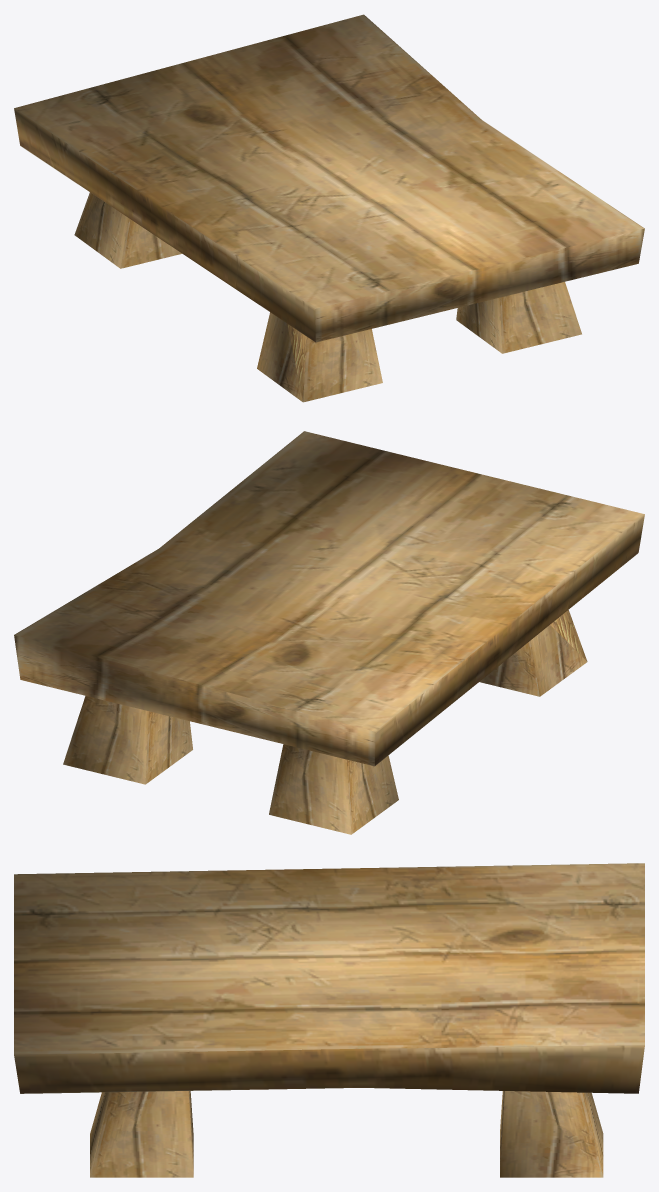
Rendered from inntable.glb.
3 renders of one model, top to bottom at view 1: azimuth 30°, elevation 25°; view 2: azimuth 150°, elevation 25°; view 3: azimuth 270°, elevation 25°, orthographic. The views are drawn at different scales.
Size of the model in its own units: 2.86 by 1.03 by 3.98.
Materials: 1 (1 with a texture image).
